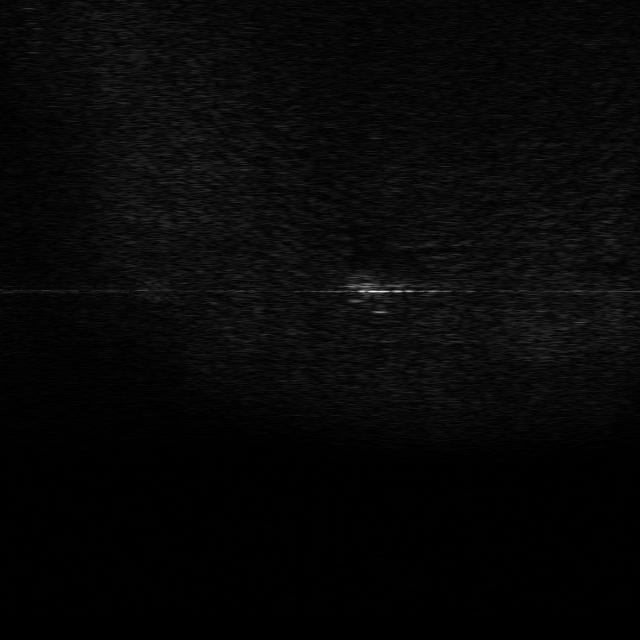plane: (342, 270, 428, 305)
